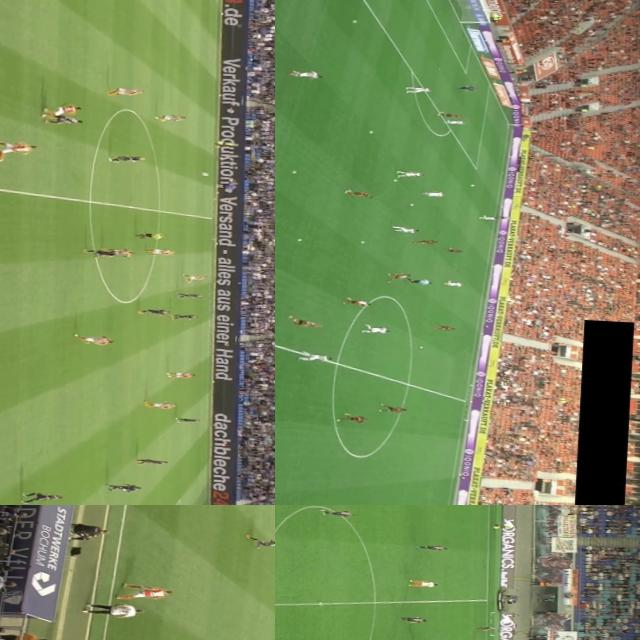ball: (198, 170, 212, 178), (249, 505, 264, 508), (352, 18, 358, 22), (410, 202, 416, 206), (360, 240, 366, 243), (472, 183, 477, 186), (369, 130, 375, 132), (294, 170, 297, 173), (300, 238, 304, 240), (394, 178, 398, 180), (420, 346, 424, 348)
player: (119, 582, 171, 602), (0, 139, 42, 162), (19, 490, 66, 504), (42, 104, 84, 118), (106, 85, 146, 96), (286, 316, 322, 328), (87, 245, 120, 258), (246, 536, 275, 550), (132, 456, 172, 466), (50, 113, 86, 124), (147, 113, 186, 123), (110, 154, 148, 164), (78, 332, 114, 342), (102, 248, 138, 258), (320, 507, 356, 517), (404, 578, 438, 588), (111, 482, 143, 492), (144, 246, 176, 256), (418, 542, 450, 552), (334, 413, 364, 423), (300, 353, 333, 362), (292, 69, 324, 78), (386, 271, 412, 282), (399, 615, 429, 624), (170, 312, 203, 320), (392, 225, 421, 233), (150, 400, 178, 408), (142, 306, 170, 314), (362, 326, 390, 334), (182, 274, 208, 282), (406, 86, 432, 94), (421, 190, 447, 198), (344, 298, 370, 306), (475, 624, 501, 632), (168, 370, 192, 378), (415, 238, 439, 246), (397, 171, 423, 178), (437, 111, 462, 118), (379, 406, 407, 412), (177, 292, 202, 298), (179, 416, 199, 423), (458, 84, 478, 91), (434, 324, 454, 331), (444, 280, 464, 286), (446, 247, 464, 253), (445, 120, 467, 124), (478, 215, 498, 219)
